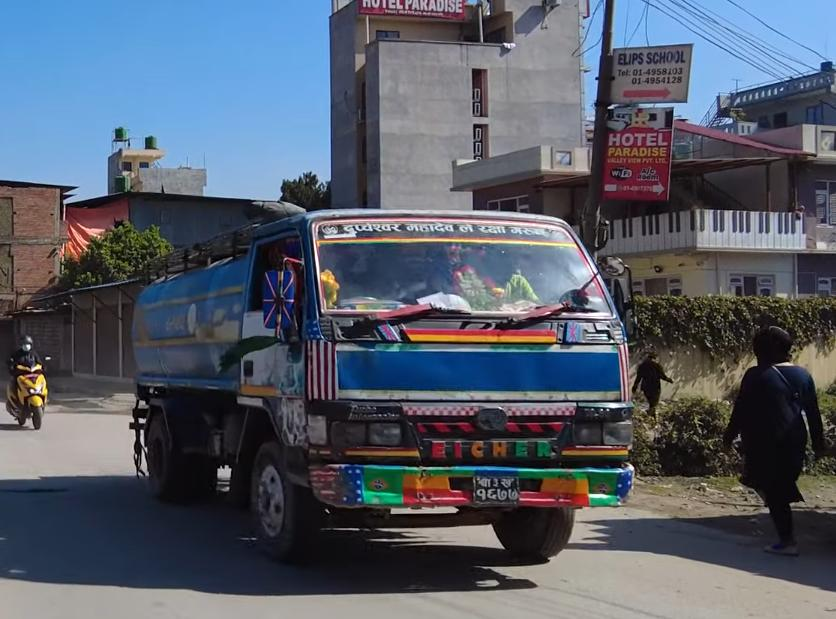mini_truck: (83, 194, 640, 569)
scooter: (0, 325, 54, 440)
